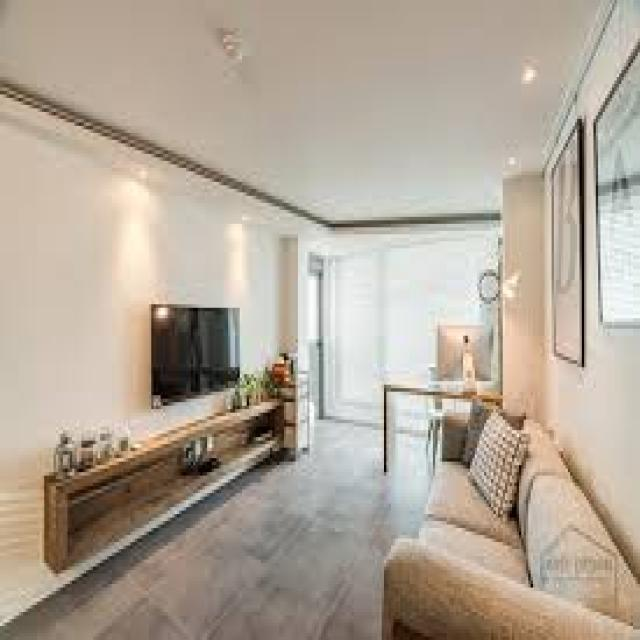Sofa: (379, 416, 640, 640)
Table: (376, 368, 440, 470)
tv: (148, 302, 242, 409)
window: (330, 248, 493, 414)
